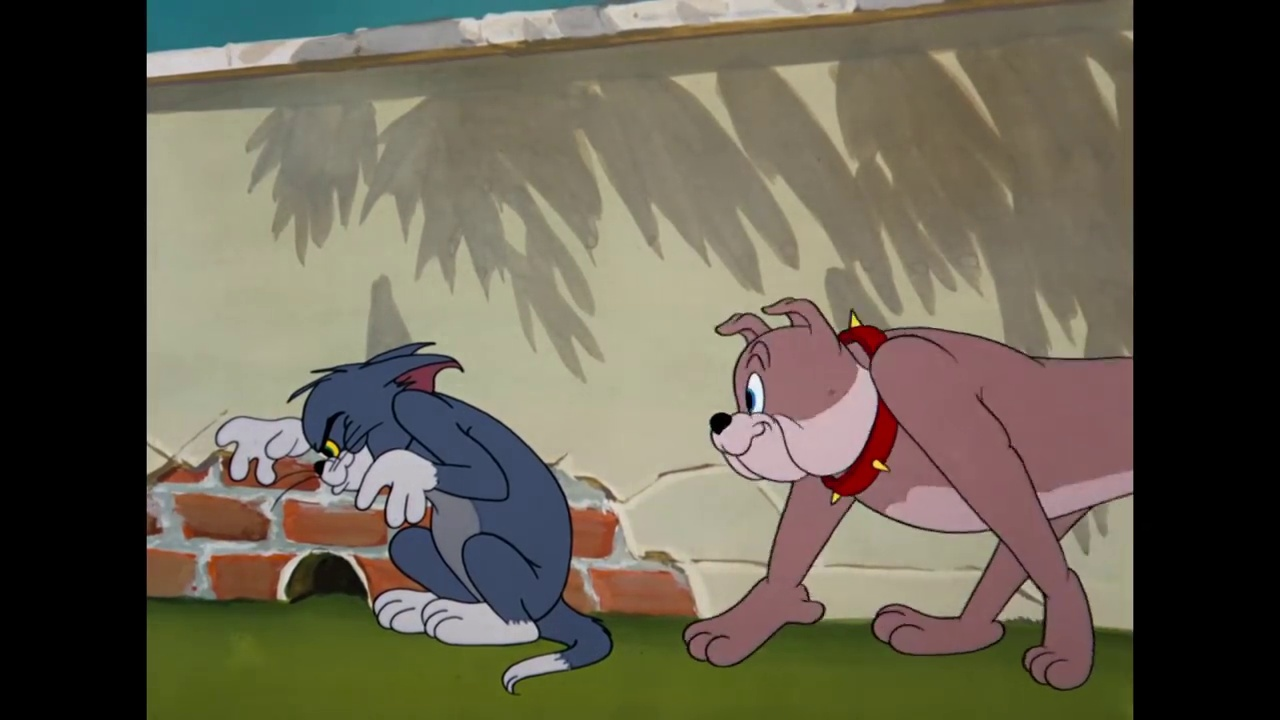spike: (704, 297, 911, 506)
tom: (286, 339, 479, 494)
